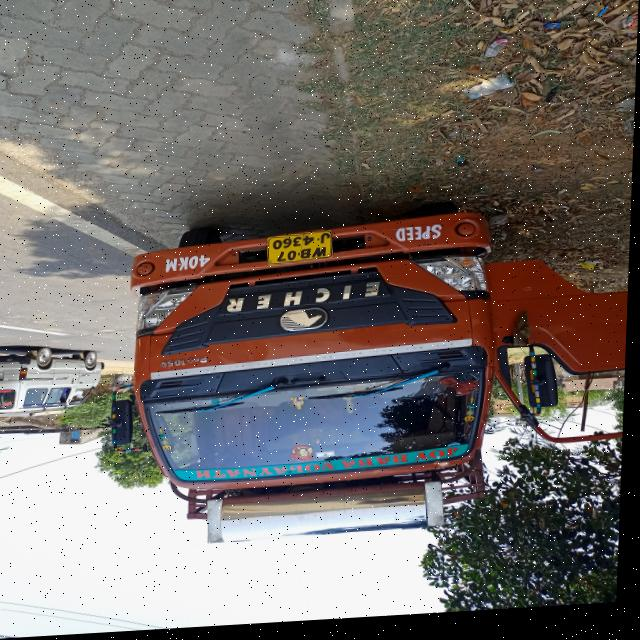plate: (269, 234, 335, 270), (0, 372, 7, 380)
